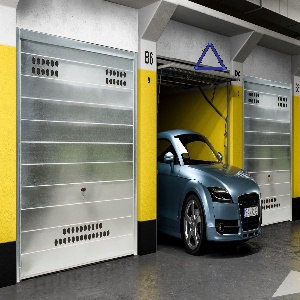triangle: (194, 39, 228, 72)
